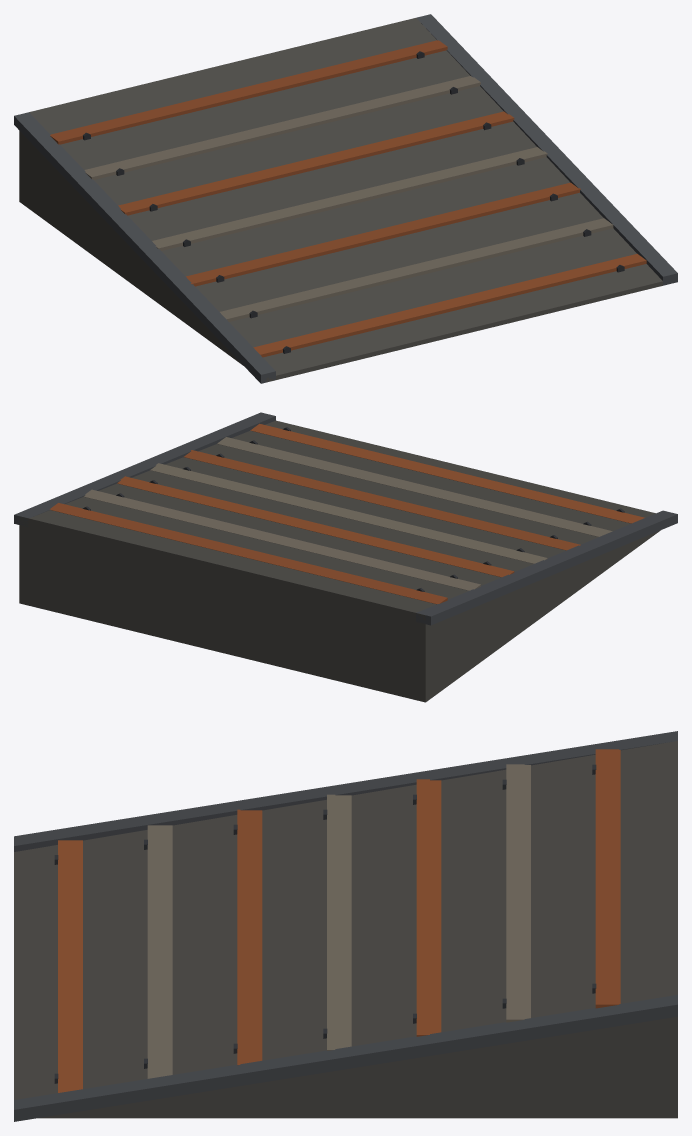
The model's file is piece_ramp.fbx.
3 views of the same model, one above another, from view 1: azimuth 30°, elevation 25°; view 2: azimuth 150°, elevation 25°; view 3: azimuth 270°, elevation 25° (orthographic). The views are drawn at different scales.
Visible parts, largest first — view 1: piece_ramp; view 2: piece_ramp; view 3: piece_ramp.
Boxes of the visible parts, left/top/right/bottom form: piece_ramp: left=14, top=14, right=677, bottom=383; piece_ramp: left=14, top=412, right=677, bottom=702; piece_ramp: left=14, top=731, right=677, bottom=1121.
Bounding box in the file's own units: 1.95 × 0.39 × 2.
